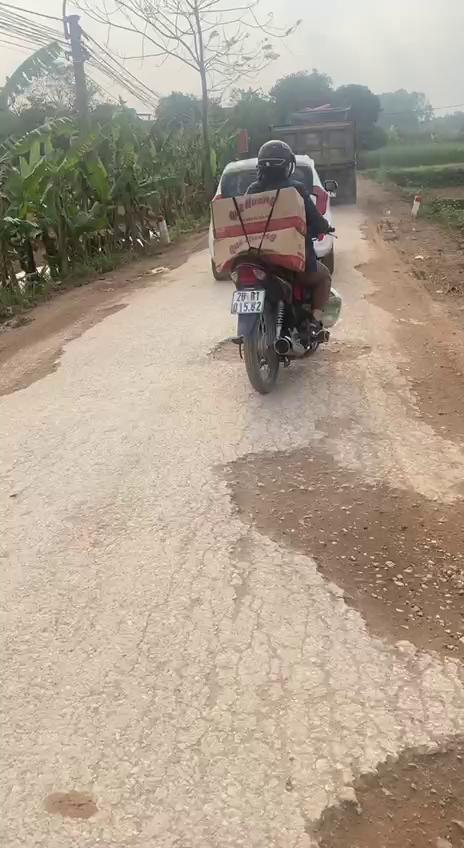pothole: (218, 436, 464, 662), (281, 714, 464, 848), (0, 300, 136, 394), (201, 329, 368, 368), (353, 258, 408, 322)
